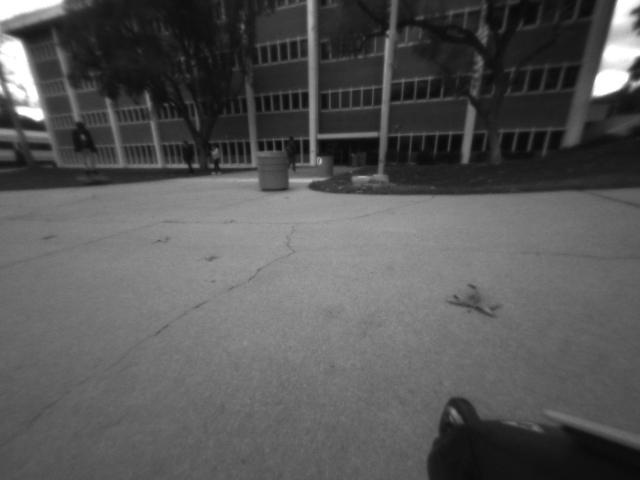trashcan: (258, 151, 292, 192), (316, 152, 331, 181)
